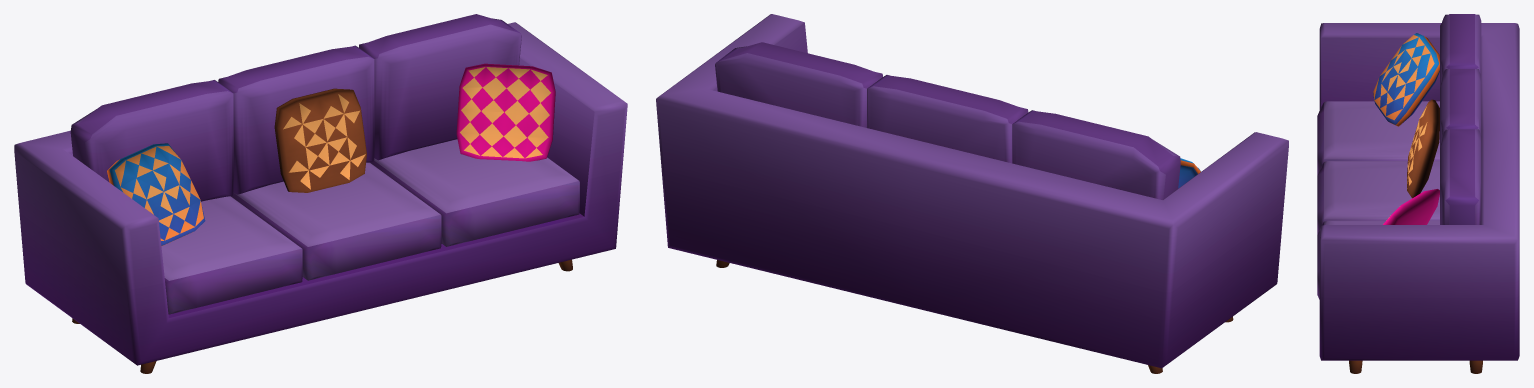
The model's file is Couch.FBX.
3 renders of one model, left to right at view 1: azimuth 30°, elevation 25°; view 2: azimuth 150°, elevation 25°; view 3: azimuth 270°, elevation 25°, orthographic. The views are drawn at different scales.
Visible parts, largest first — view 1: Couch; view 2: Couch; view 3: Couch.
Boxes of the visible parts, x1=… form: Couch: x1=14, y1=14, x2=627, y2=373; Couch: x1=656, y1=14, x2=1288, y2=373; Couch: x1=1317, y1=14, x2=1519, y2=373.
Size of the model in its own units: 699 by 278 by 274.
2 materials, 2 textured.
